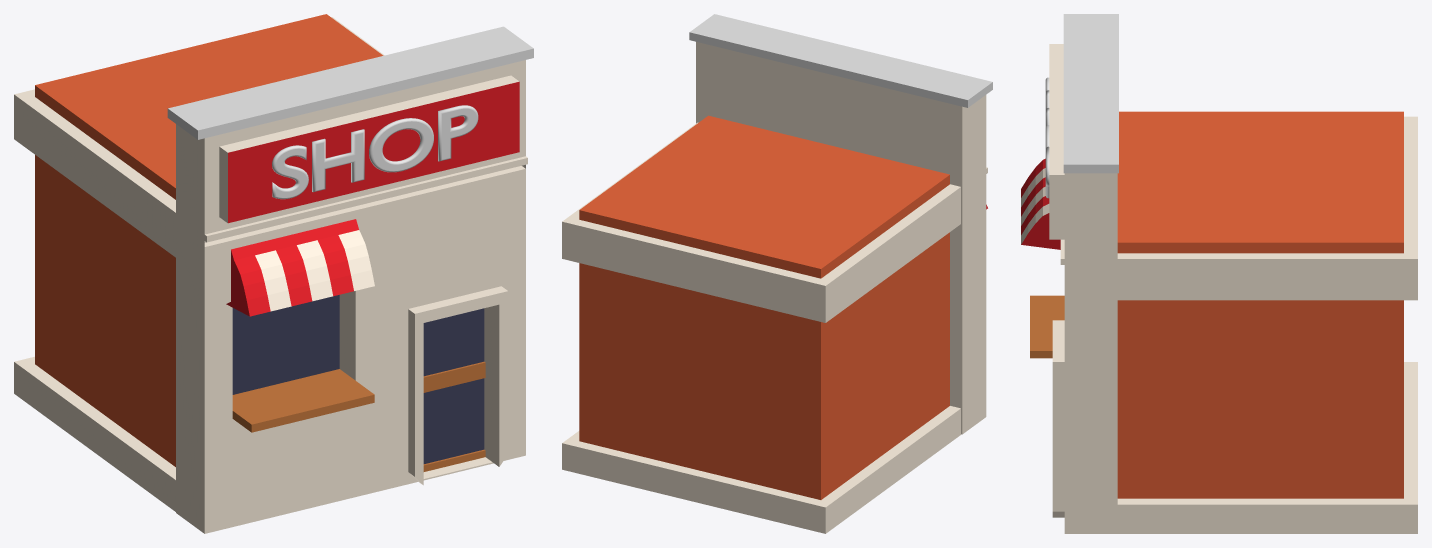
Rendered from shop.fbx.
3 views of the same model, side by side, from view 1: azimuth 30°, elevation 25°; view 2: azimuth 150°, elevation 25°; view 3: azimuth 270°, elevation 25° (orthographic). The views are drawn at different scales.
Parts seen in each view (by area): view 1: Cube.002_Cube.003, Cube_Cube.001, Cube.010_Cube.011, Cube.004_Cube.005, Cube.001_Cube.002, Cube.011_Cube.012, Cube.007_Cube.008, Cube.003_Cube.004, Shop, Cube.005_Cube.006, Cube.006_Cube.007, Cube.008_Cube.009; view 2: Cube_Cube.001, Cube.002_Cube.003, Cube.001_Cube.002, Cube.003_Cube.004, Cube.004_Cube.005; view 3: Cube_Cube.001, Cube.002_Cube.003, Cube.001_Cube.002, Cube.003_Cube.004, Cube.004_Cube.005, Cube.006_Cube.007, Cube.005_Cube.006, Shop.
Part boxes in pixels (<box>): Cube.002_Cube.003: <box>176,60,527,533</box>; Cube_Cube.001: <box>35,14,383,466</box>; Cube.010_Cube.011: <box>228,81,519,223</box>; Cube.004_Cube.005: <box>167,26,533,139</box>; Cube.001_Cube.002: <box>14,17,384,257</box>; Cube.011_Cube.012: <box>232,295,339,394</box>; Cube.007_Cube.008: <box>423,308,484,463</box>; Cube.003_Cube.004: <box>14,356,175,511</box>; Shop: <box>272,105,478,199</box>; Cube.005_Cube.006: <box>226,219,358,316</box>; Cube.006_Cube.007: <box>232,369,374,432</box>; Cube.008_Cube.009: <box>423,361,485,392</box>; Cube_Cube.001: <box>579,115,949,499</box>; Cube.002_Cube.003: <box>696,42,987,434</box>; Cube.001_Cube.002: <box>562,122,960,322</box>; Cube.003_Cube.004: <box>562,406,961,533</box>; Cube.004_Cube.005: <box>689,14,992,107</box>; Cube_Cube.001: <box>1117,111,1403,498</box>; Cube.002_Cube.003: <box>1021,44,1117,533</box>; Cube.001_Cube.002: <box>1117,116,1417,300</box>; Cube.003_Cube.004: <box>1117,362,1417,533</box>; Cube.004_Cube.005: <box>1063,14,1118,173</box>; Cube.006_Cube.007: <box>1030,295,1064,358</box>; Cube.005_Cube.006: <box>1021,158,1060,249</box>; Shop: <box>1045,77,1049,198</box>.
Size of the model in its own units: 230 by 268 by 256.
